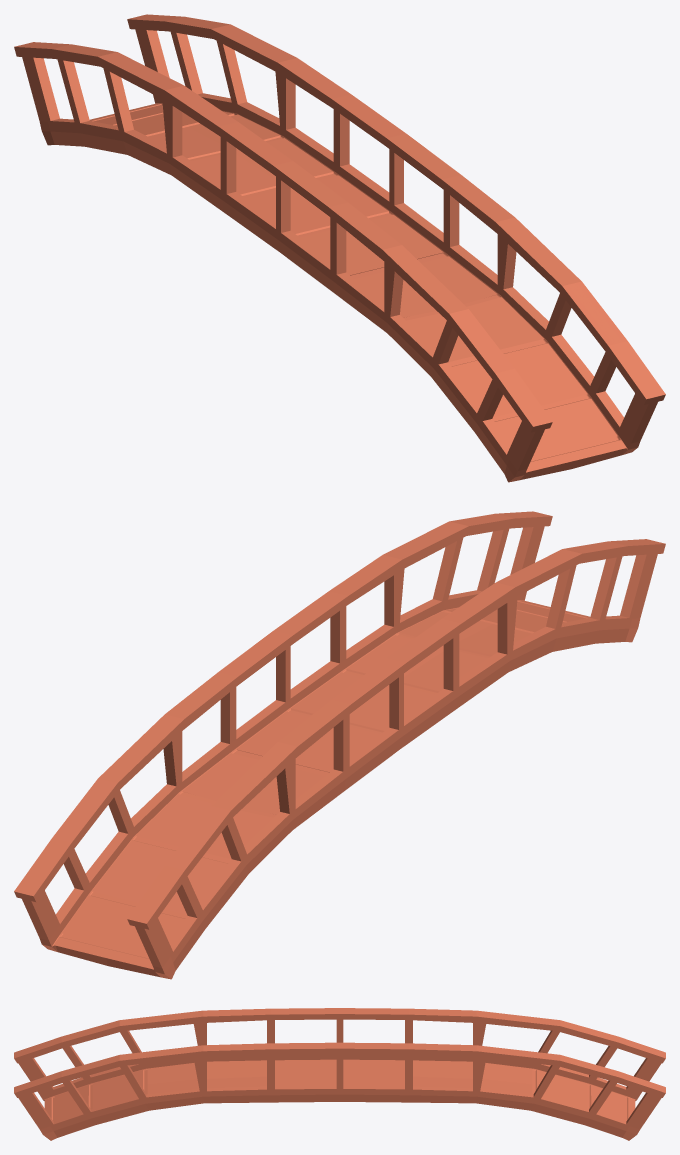
Rendered from silta_taivutettu_long.fbx.
3 renders of one model, top to bottom at view 1: azimuth 30°, elevation 25°; view 2: azimuth 150°, elevation 25°; view 3: azimuth 270°, elevation 25°, orthographic. The views are drawn at different scales.
Visible parts, largest first — view 1: Cube.001; view 2: Cube.001; view 3: Cube.001.
Part boxes in pixels (box(x1,y1,x2,y2)): Cube.001: box(14, 14, 665, 482); Cube.001: box(14, 511, 665, 979); Cube.001: box(14, 1008, 665, 1140).
Size of the model in its own units: 313 by 338 by 2124.
